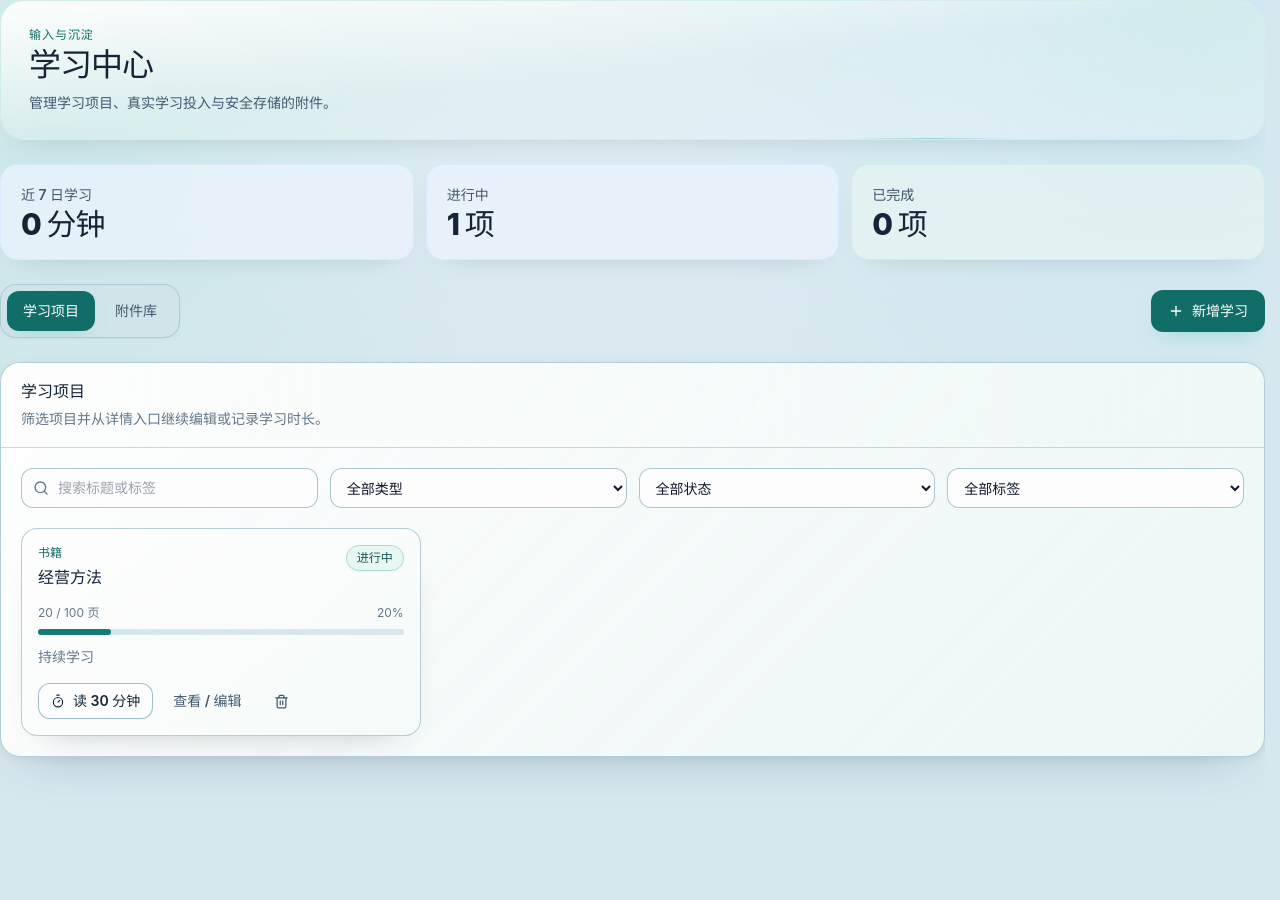
Test: KnowledgePage › provides project filters, a centered editor dialog, and an attachment tab
Check: the field named "搜索学习项目" is shown, box x1=21 y1=468 x2=318 y2=508
Step 1. Click the button "新增学习" → click(1208, 311), box x1=1151 y1=290 x2=1265 y2=332
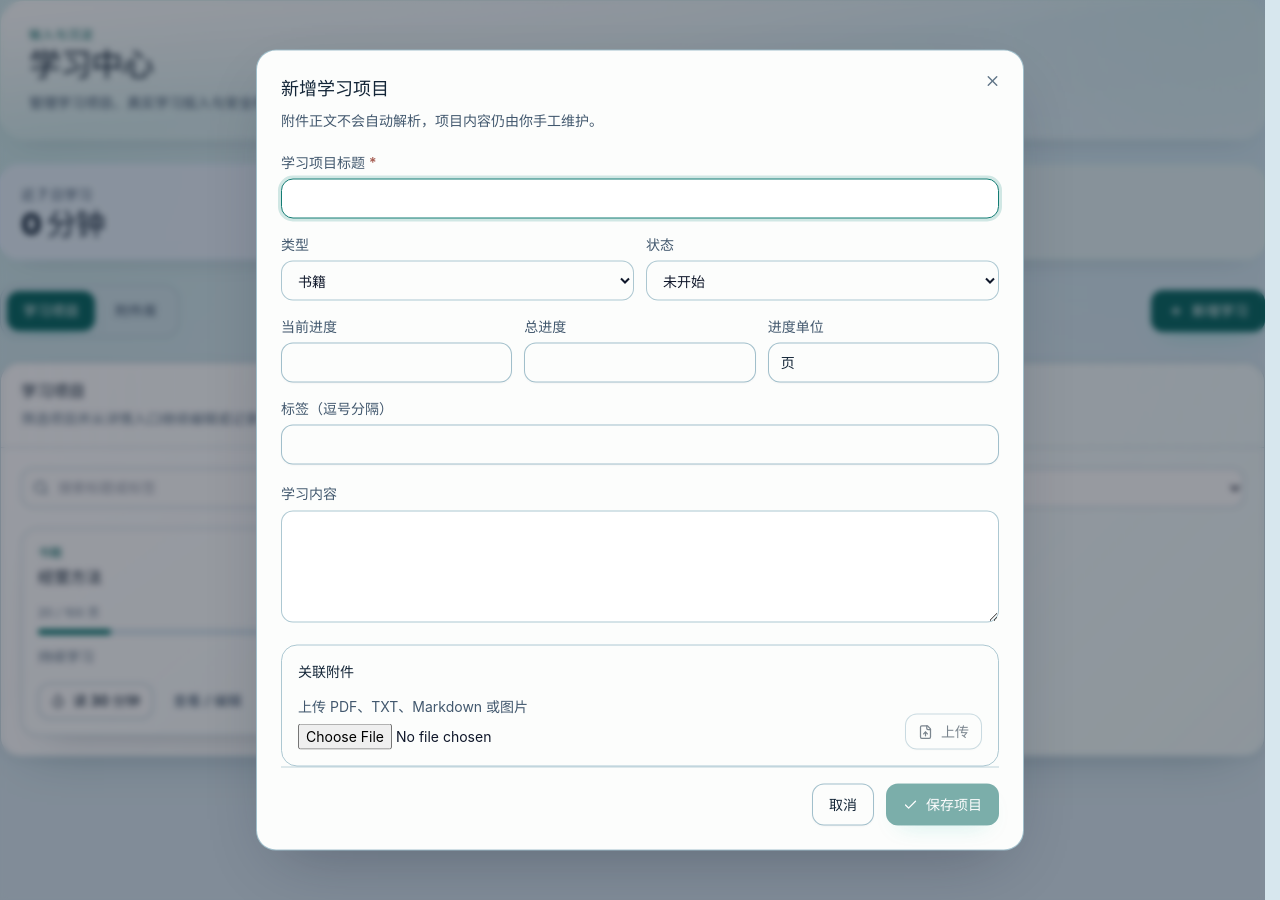
Check: the heading "新增学习项目" is shown, box x1=281 y1=78 x2=389 y2=98
Step 2. Click the button named "关闭" → click(992, 81), box x1=978 y1=66 x2=1007 y2=96
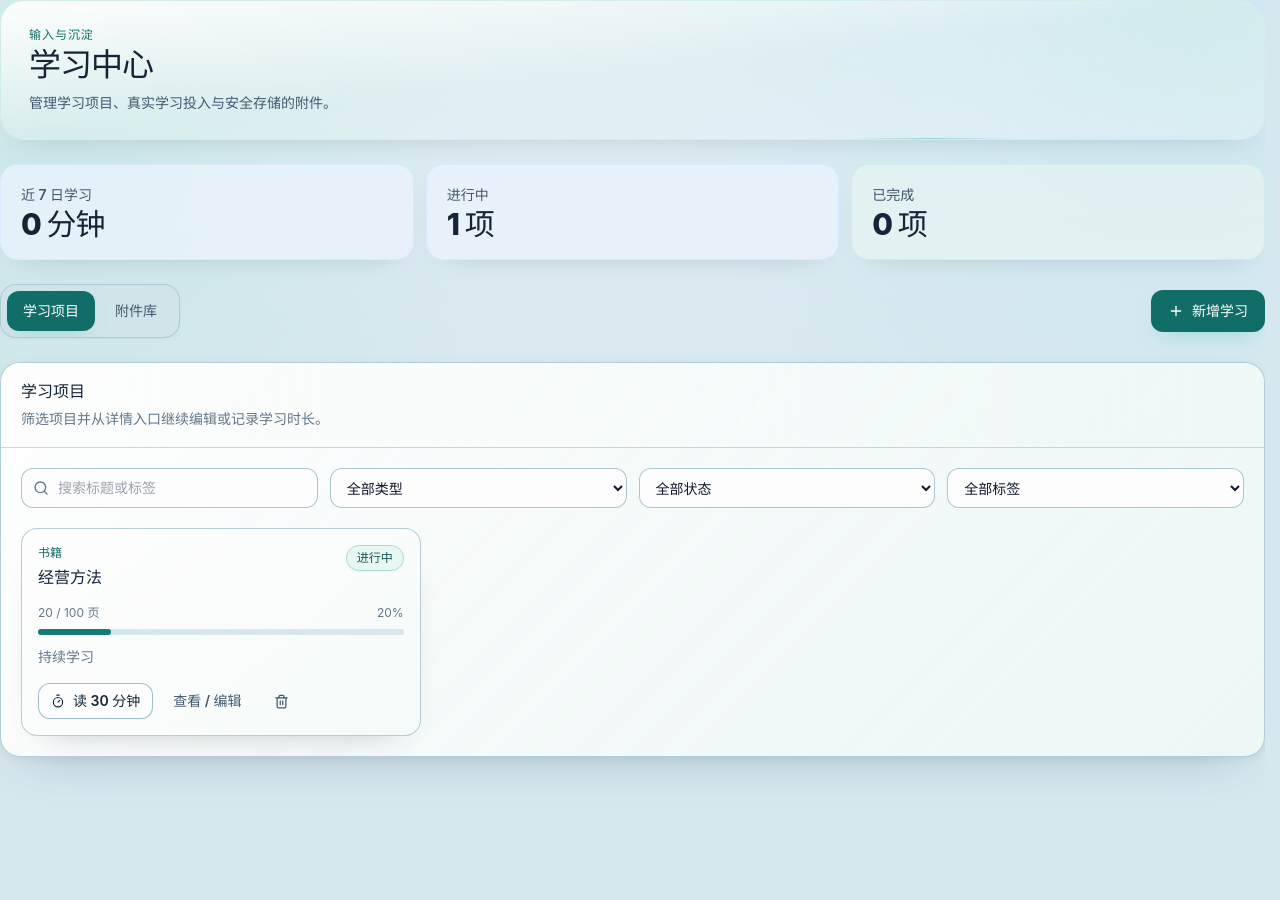
Step 3. Press the mouse on the tab "附件库" → (136, 311), box x1=99 y1=291 x2=173 y2=331
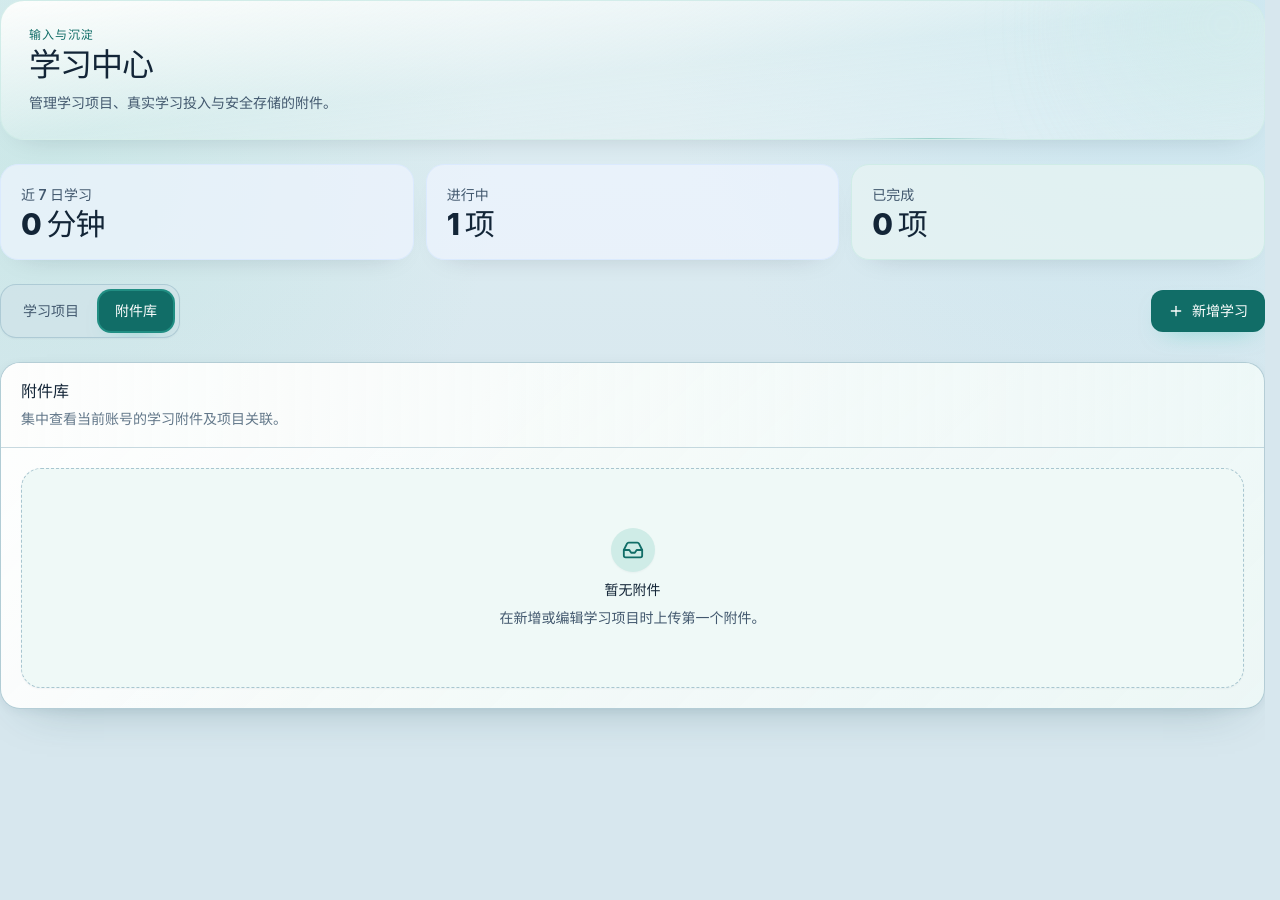
Check: the heading "附件库" is shown, box x1=21 y1=381 x2=69 y2=401
